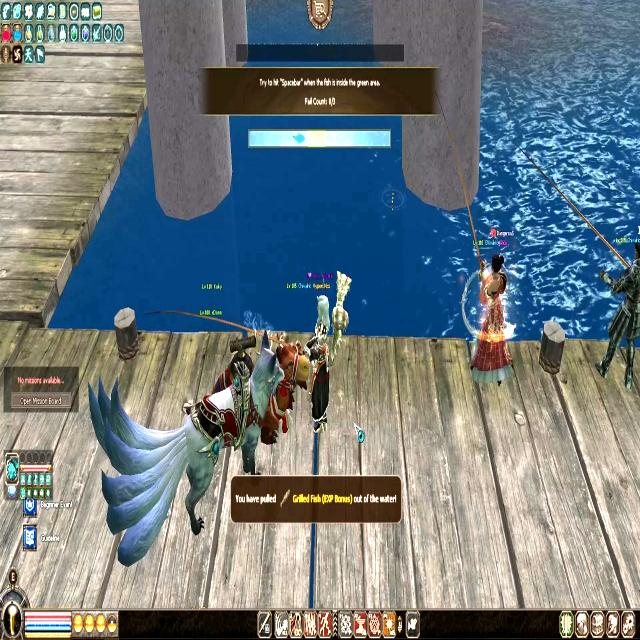fishes: (292, 130, 305, 146)
